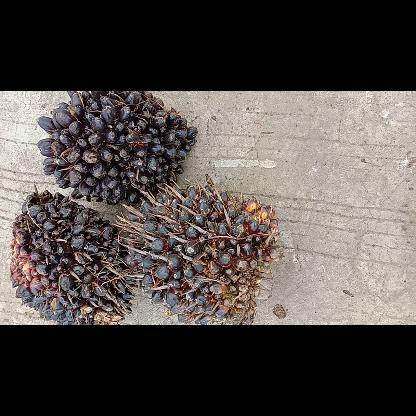TBS mentah: (120, 182, 284, 324), (33, 90, 199, 208), (7, 188, 137, 324)
